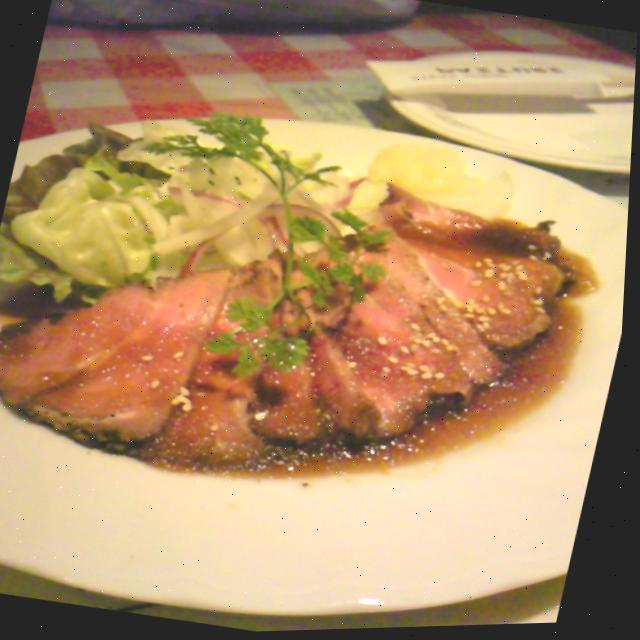熟制海鲜: (5, 0, 640, 298)
